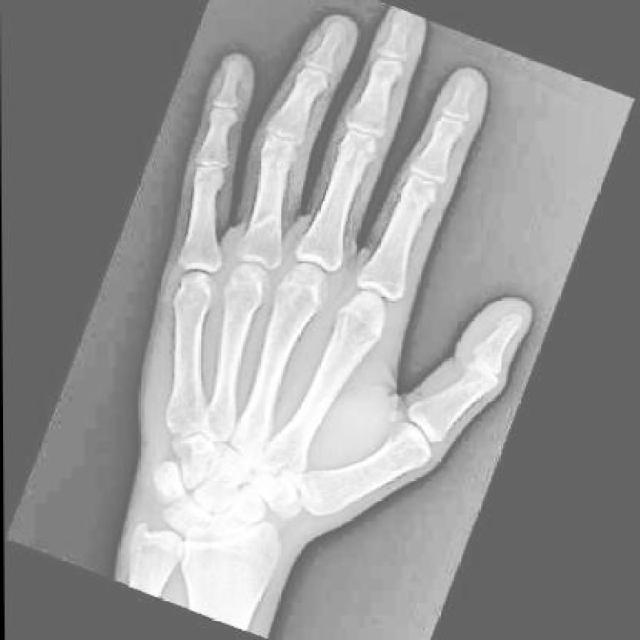Fracture: (462, 339, 512, 396)
